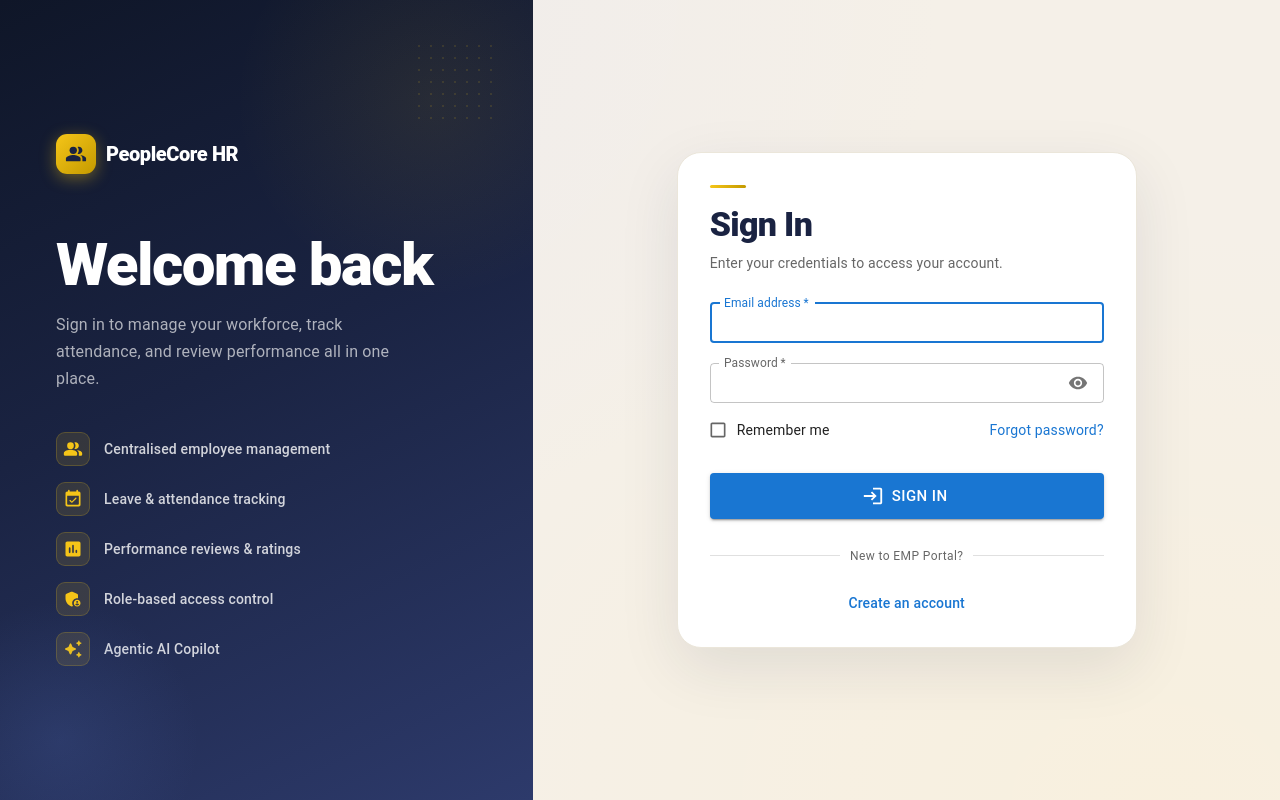
Test: LoginPage › Validation › shows required error when email is empty on submit
What coordinates should you click on to do the following:
click the button "Sign In"
I would click on:
 (907, 496)
Its box is [710,473,1104,519].
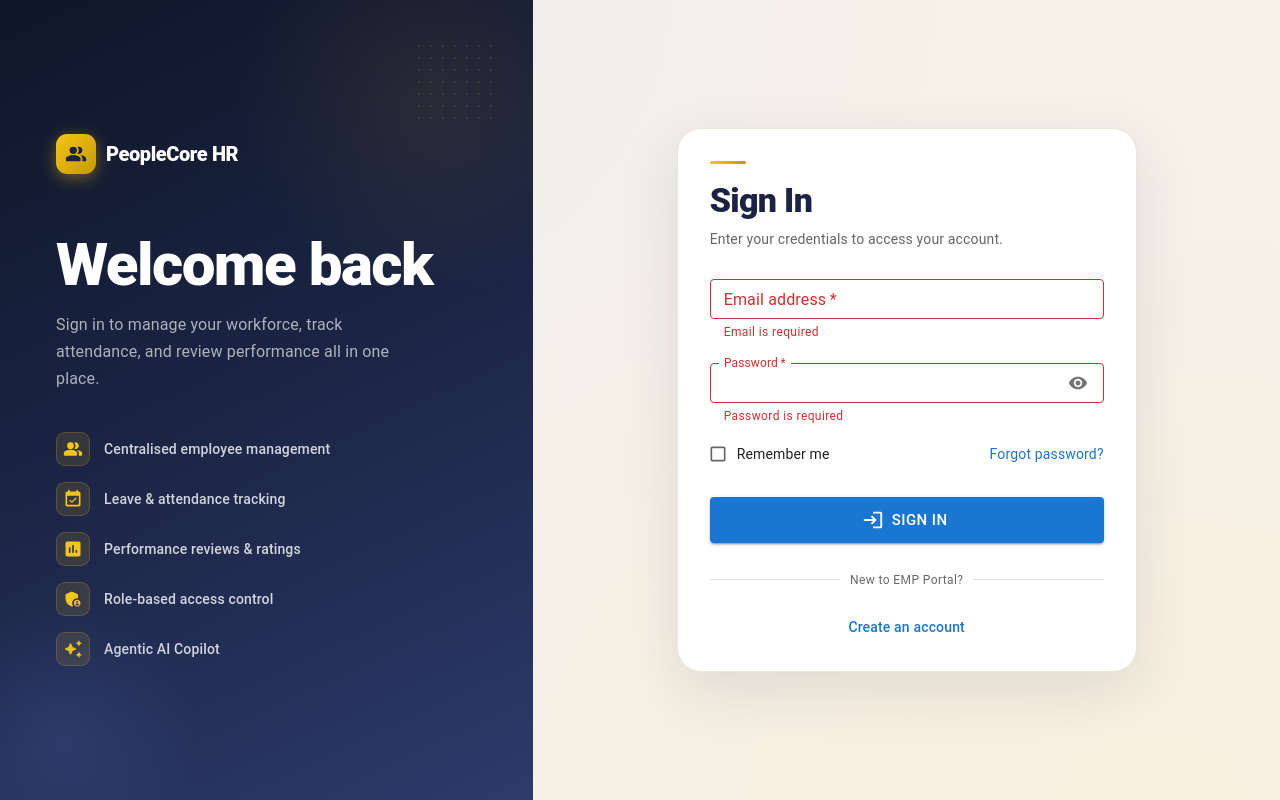
Expected: the text "Email is required" is shown, [724,325,819,339]
